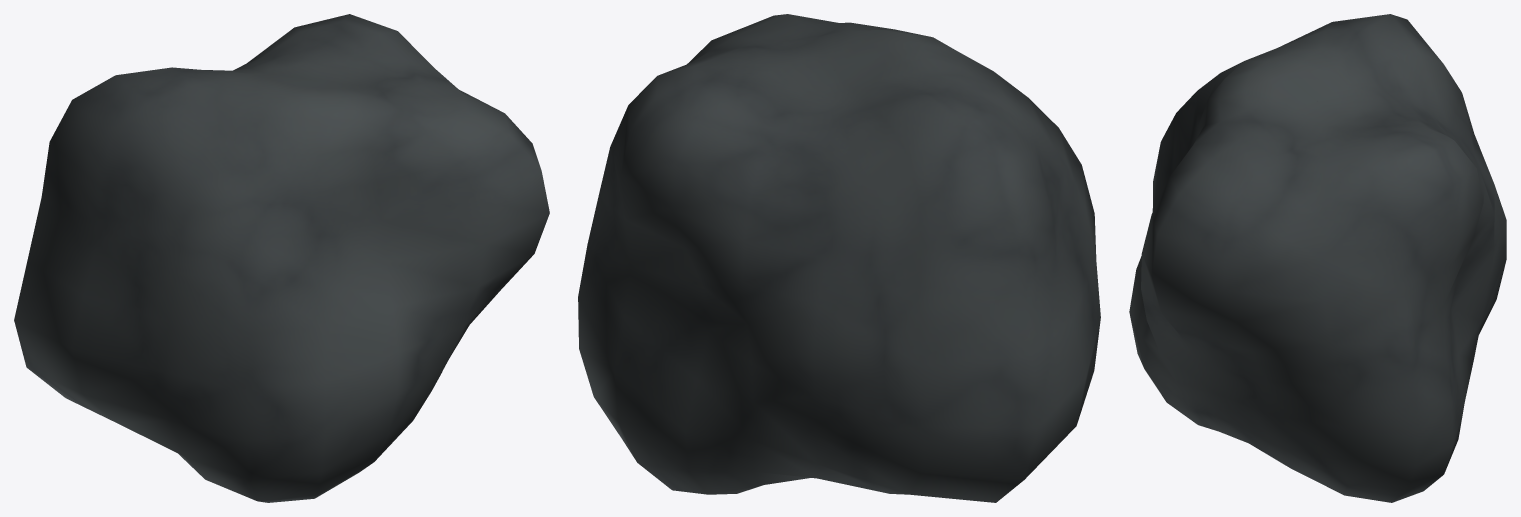
The model's file is Asteroid-03.fbx.
3 renders of one model, left to right at view 1: azimuth 30°, elevation 25°; view 2: azimuth 150°, elevation 25°; view 3: azimuth 270°, elevation 25°, orthographic. The views are drawn at different scales.
Visible parts, largest first — view 1: Asteroid_Opt03_LOD0; view 2: Asteroid_Opt03_LOD0; view 3: Asteroid_Opt03_LOD0.
Part boxes in pixels (x1,y1,x2,y2): Asteroid_Opt03_LOD0: (14,14,549,502); Asteroid_Opt03_LOD0: (578,14,1100,502); Asteroid_Opt03_LOD0: (1129,14,1506,502).
Size of what is drawn, in the model's own units: 121 by 106 by 96.68.
